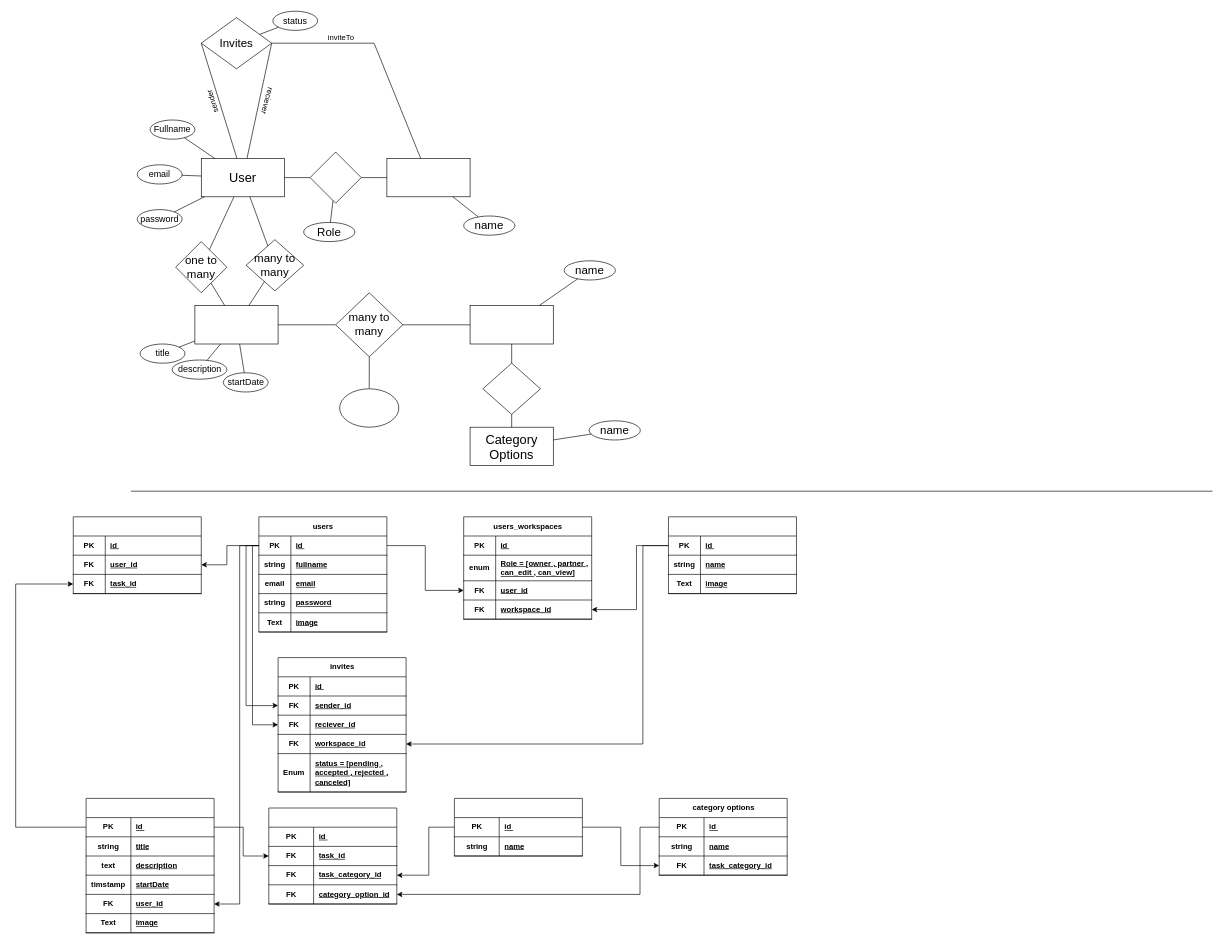
Image size: 1224x944. Some labels were removed from this diagram. The shapes that lost their labels are listed below. From the top down, each one's box as (x1, y1, x2, y2) in pixels, then its label:
(309, 151, 361, 203): In
(386, 158, 470, 197): Workspace
(194, 305, 278, 344): Task
(469, 305, 553, 344): Task Category
(339, 388, 399, 427): category option (id)
(482, 363, 540, 414): has many
(73, 516, 201, 594): users_tasks
(668, 516, 796, 594): workspaces
(454, 798, 582, 856): task categories
(85, 798, 214, 933): tasks
(268, 807, 397, 904): tasks_task_categories
